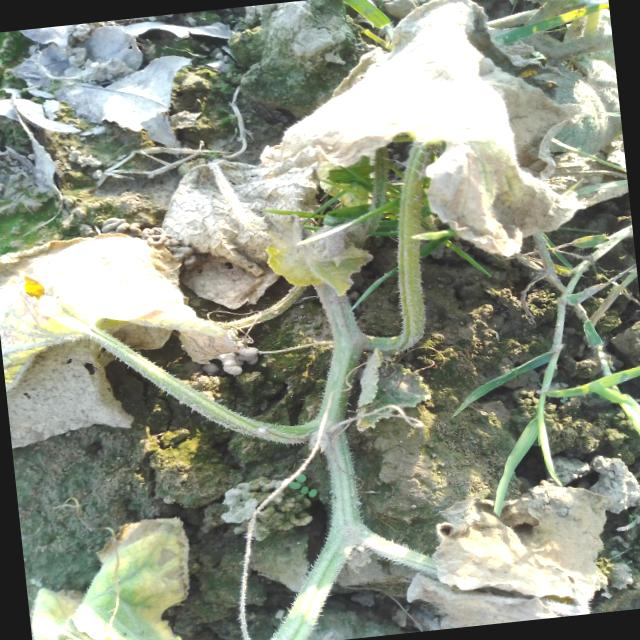cucumber_bacterial: (266, 0, 620, 272), (0, 210, 221, 459), (383, 429, 640, 633), (156, 130, 358, 308), (18, 488, 243, 640)
